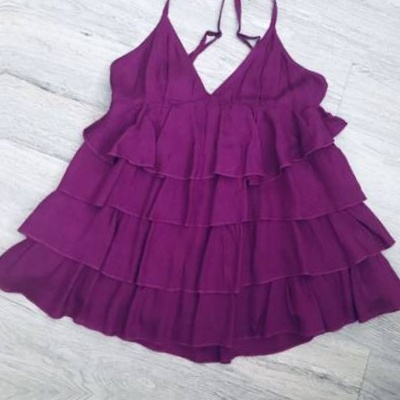Dress: (0, 0, 400, 372), (0, 0, 5, 356)
